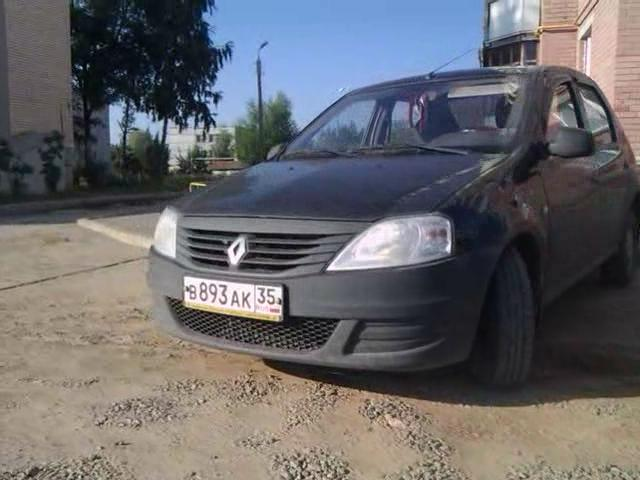car license plate: (182, 272, 289, 325)
